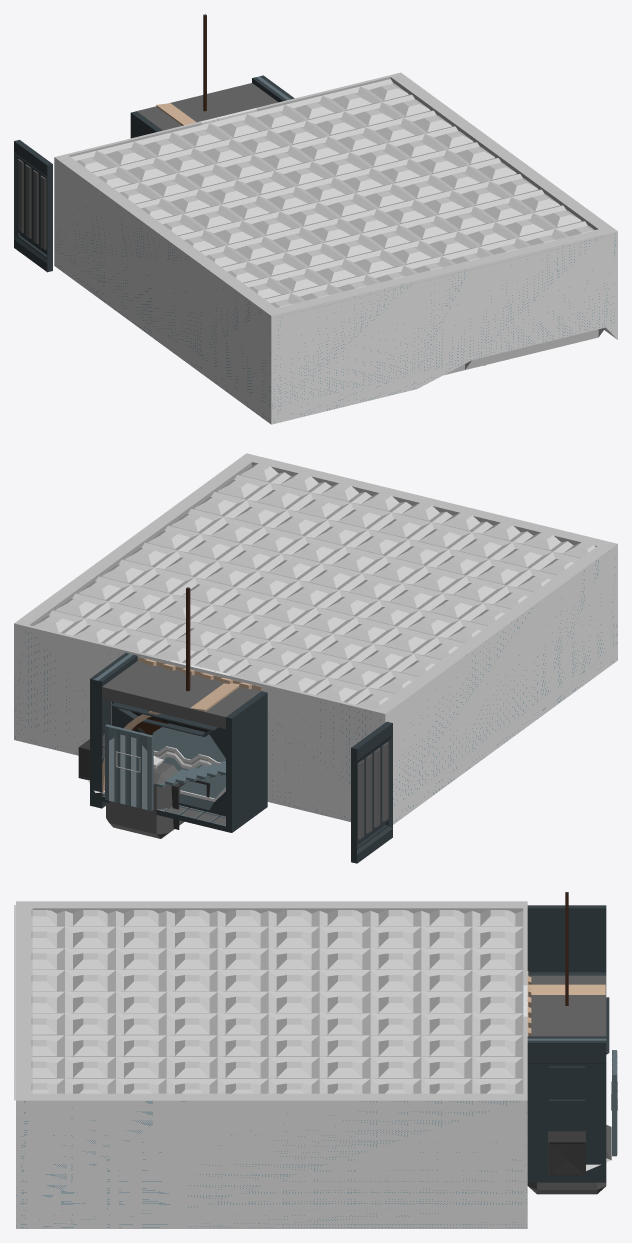
File: vent_cover.glb
The picture shows the model from 3 angles, top to bottom: view 1: azimuth 30°, elevation 25°; view 2: azimuth 150°, elevation 25°; view 3: azimuth 270°, elevation 25°; orthographic projection. The views are drawn at different scales.
Visible parts, largest first — view 1: LabWalls, LabCeiling, Wall01.001, Ceiling01, Ceiling02.001, Ceiling02; view 2: LabCeiling, LabWalls, Wall01.001, Wall01, Door, Ceiling01, CubeRounded, Ceiling02.001, SiloDoorway, SiloDoorU, Ceiling02, SiloDoorD (+11 smaller); view 3: LabCeiling, LabWalls, WallHatchLow, Wall01.001, Ceiling02.001, Cube, Bars01, Ceiling01, Ceiling02, WallHatchHigh, Block01, CubeRounded (+2 smaller).
Part boxes in pixels (x1=…): LabWalls: x1=54, y1=72, x2=617, y2=424; LabCeiling: x1=71, y1=79, x2=613, y2=317; Wall01.001: x1=14, y1=140, x2=52, y2=272; Ceiling01: x1=194, y1=83, x2=278, y2=116; Ceiling02.001: x1=136, y1=97, x2=220, y2=130; Ceiling02: x1=195, y1=83, x2=277, y2=115; LabCeiling: x1=33, y1=463, x2=595, y2=709; LabWalls: x1=14, y1=453, x2=617, y2=824; Wall01.001: x1=351, y1=721, x2=392, y2=863; Wall01: x1=226, y1=691, x2=267, y2=832; Door: x1=105, y1=724, x2=153, y2=810; Ceiling01: x1=102, y1=661, x2=198, y2=713; CubeRounded: x1=106, y1=762, x2=184, y2=838; Ceiling02.001: x1=164, y1=676, x2=261, y2=729; SiloDoorway: x1=111, y1=701, x2=225, y2=816; SiloDoorU: x1=153, y1=727, x2=225, y2=764; Ceiling02: x1=102, y1=661, x2=198, y2=713; SiloDoorD: x1=155, y1=751, x2=225, y2=801; LabCeiling: x1=14, y1=905, x2=523, y2=1100; LabWalls: x1=16, y1=901, x2=527, y2=1228; WallHatchLow: x1=527, y1=1063, x2=606, y2=1174; Wall01.001: x1=527, y1=905, x2=606, y2=972; Ceiling02.001: x1=528, y1=975, x2=606, y2=1008; Cube: x1=548, y1=1131, x2=585, y2=1175; Bars01: x1=527, y1=1048, x2=606, y2=1174; Ceiling01: x1=528, y1=1008, x2=606, y2=1036; Ceiling02: x1=528, y1=1008, x2=606, y2=1029; WallHatchHigh: x1=527, y1=1064, x2=606, y2=1182; Block01: x1=527, y1=1036, x2=606, y2=1048; CubeRounded: x1=527, y1=1182, x2=606, y2=1194.
Bounding box in the file's own units: 12.23 × 7.53 × 15.35.
Materials: 1 (1 with a texture image).
